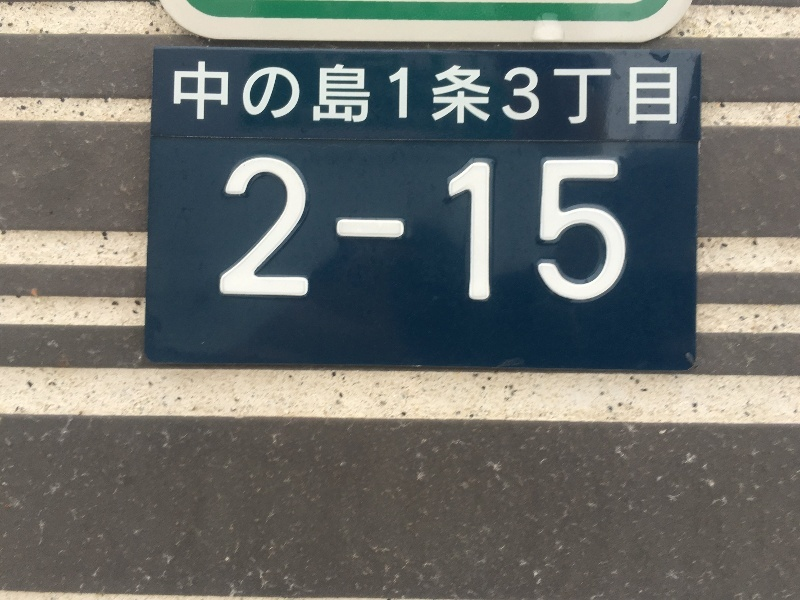text: (225, 156, 240, 311), (241, 156, 256, 311), (257, 156, 272, 311), (273, 156, 288, 311), (289, 156, 304, 311), (305, 156, 320, 311), (321, 156, 336, 311), (337, 156, 352, 311), (353, 156, 368, 311), (369, 156, 384, 311), (385, 156, 400, 311), (401, 156, 416, 311), (417, 156, 432, 311), (433, 156, 448, 311), (449, 156, 464, 311), (465, 156, 480, 311), (481, 156, 496, 311), (497, 156, 512, 311), (513, 156, 528, 311), (529, 156, 544, 311), (545, 156, 560, 311), (561, 156, 576, 311), (577, 156, 592, 311), (593, 156, 608, 311), (609, 156, 624, 311), (625, 156, 632, 311), (177, 59, 192, 128), (193, 59, 208, 128), (209, 59, 224, 128), (225, 59, 240, 128), (241, 59, 256, 128), (257, 59, 272, 128), (273, 59, 288, 128), (289, 59, 304, 128), (305, 59, 320, 128), (321, 59, 336, 128), (337, 59, 352, 128), (353, 59, 368, 128), (369, 59, 384, 128), (385, 59, 400, 128), (401, 59, 416, 128), (417, 59, 432, 128), (433, 59, 448, 128), (449, 59, 464, 128), (465, 59, 480, 128), (481, 59, 496, 128), (497, 59, 512, 128), (513, 59, 528, 128), (529, 59, 544, 128), (545, 59, 560, 128), (561, 59, 576, 128), (577, 59, 592, 128), (593, 59, 608, 128), (609, 59, 624, 128), (625, 59, 640, 128), (641, 59, 656, 128), (657, 59, 672, 128), (673, 59, 680, 128), (221, 156, 224, 311), (174, 59, 176, 128)
